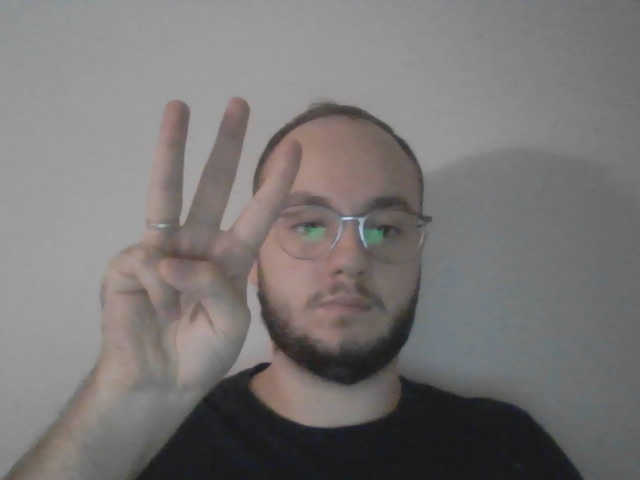Three: (99, 96, 303, 411)
